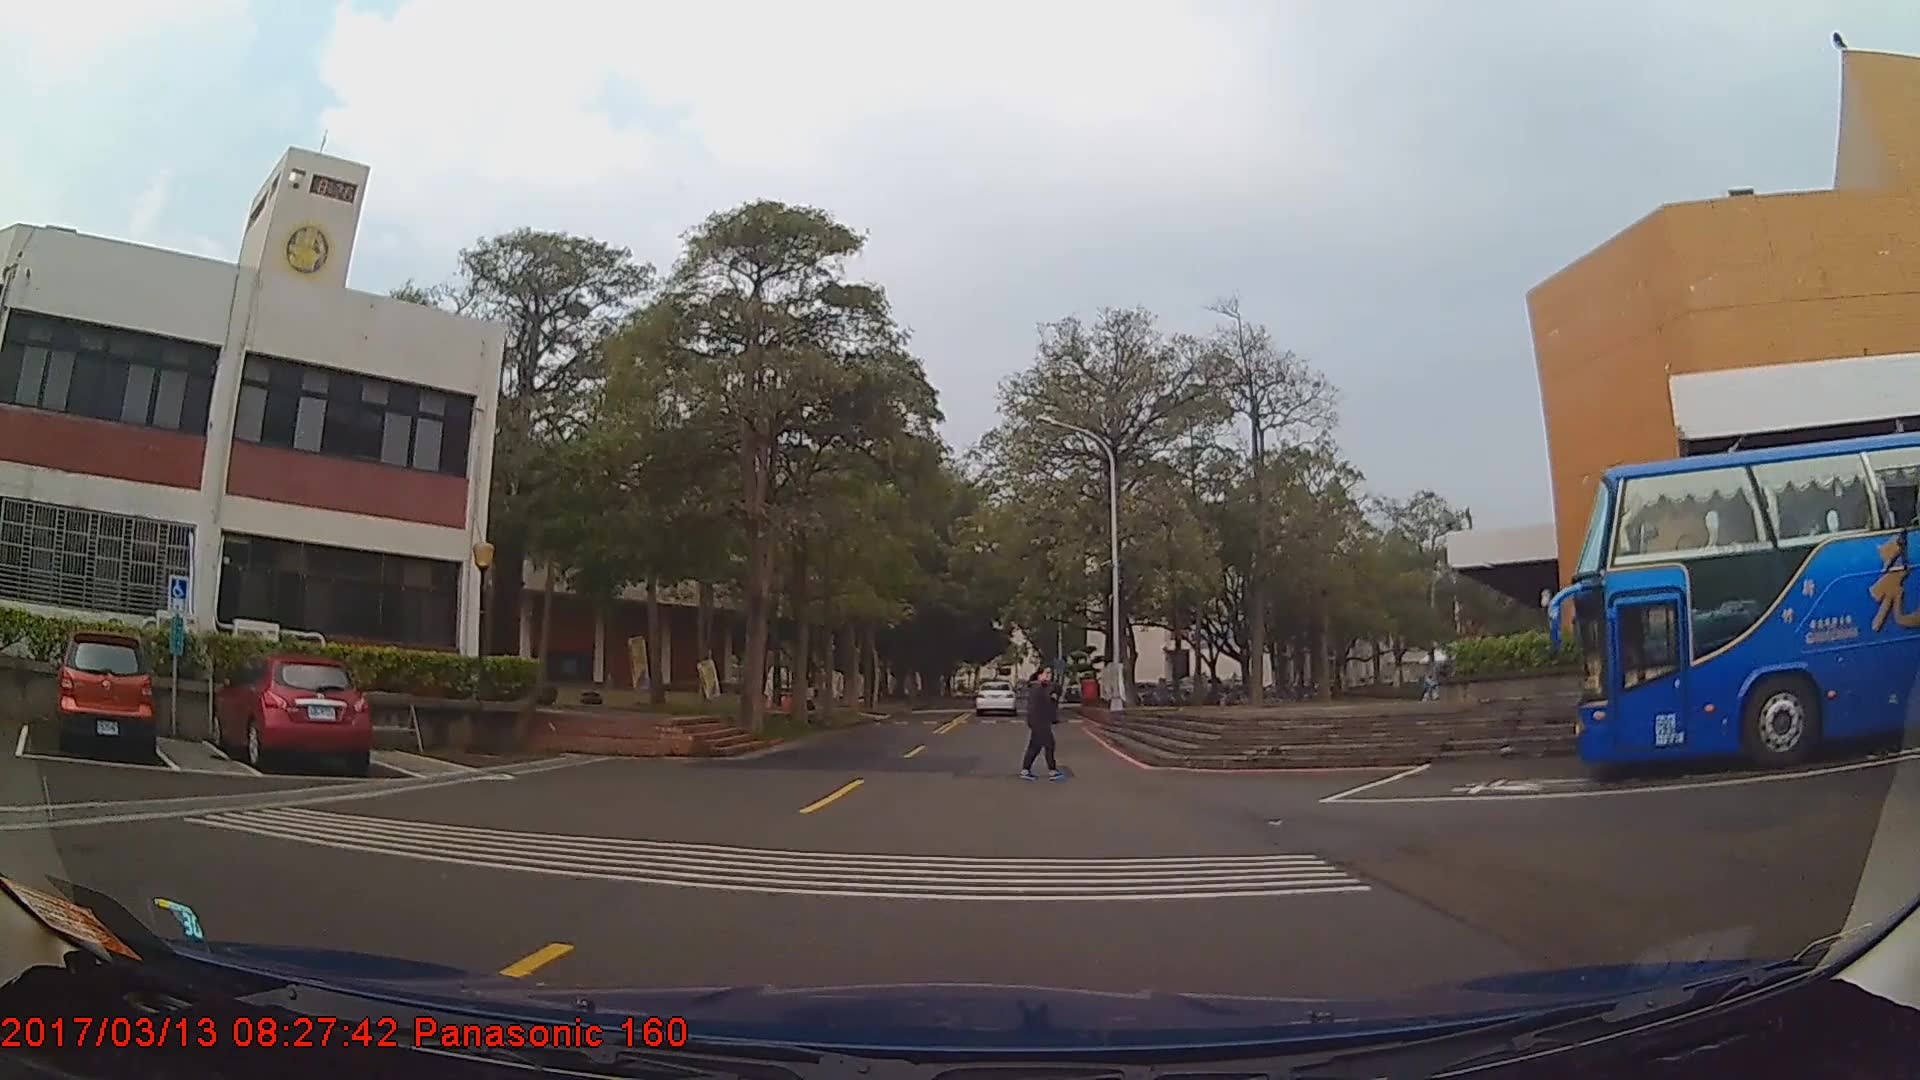pedestrian: (1009, 661, 1074, 783)
vehicle: (1575, 424, 1920, 778), (206, 654, 369, 773), (53, 630, 155, 752), (975, 675, 1015, 713)
